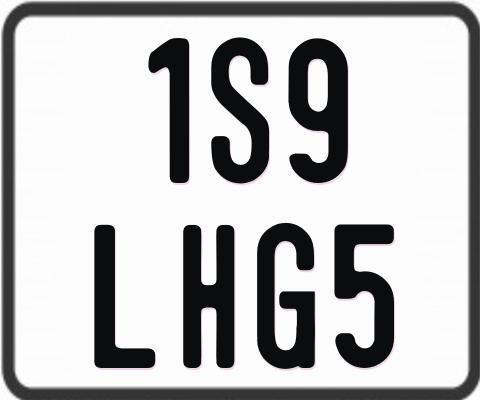1: (146, 38, 187, 187)
5: (331, 222, 393, 365)
9: (288, 37, 349, 183)
G: (255, 222, 315, 368)
H: (183, 222, 235, 365)
L: (91, 225, 152, 374)
S: (209, 38, 268, 187)
